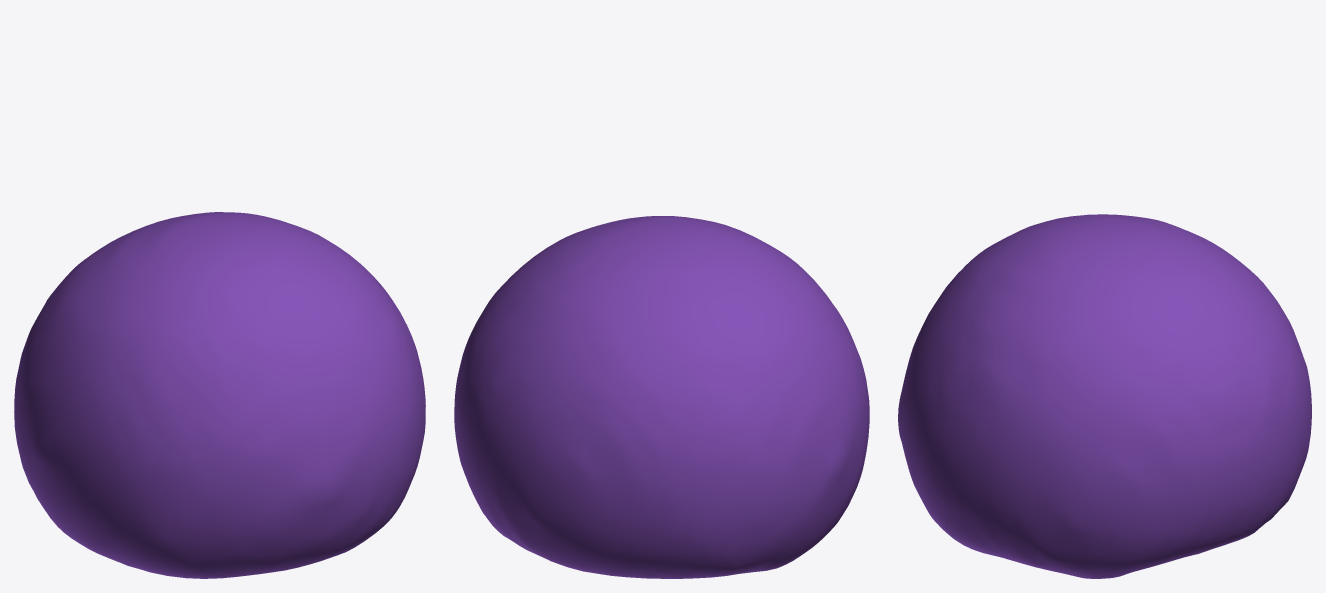
File: slime_0024.dae
The picture shows the model from 3 angles, left to right: view 1: azimuth 30°, elevation 25°; view 2: azimuth 150°, elevation 25°; view 3: azimuth 270°, elevation 25°; orthographic projection.
Parts seen in each view (by area): view 1: Slime; view 2: Slime; view 3: Slime.
Boxes of the visible parts, x1,y1,x2,y2 form: Slime: (14,212,425,578); Slime: (454,216,869,578); Slime: (898,214,1311,578).
Bounding box in the file's own units: 2.05 × 2.78 × 2.06.
